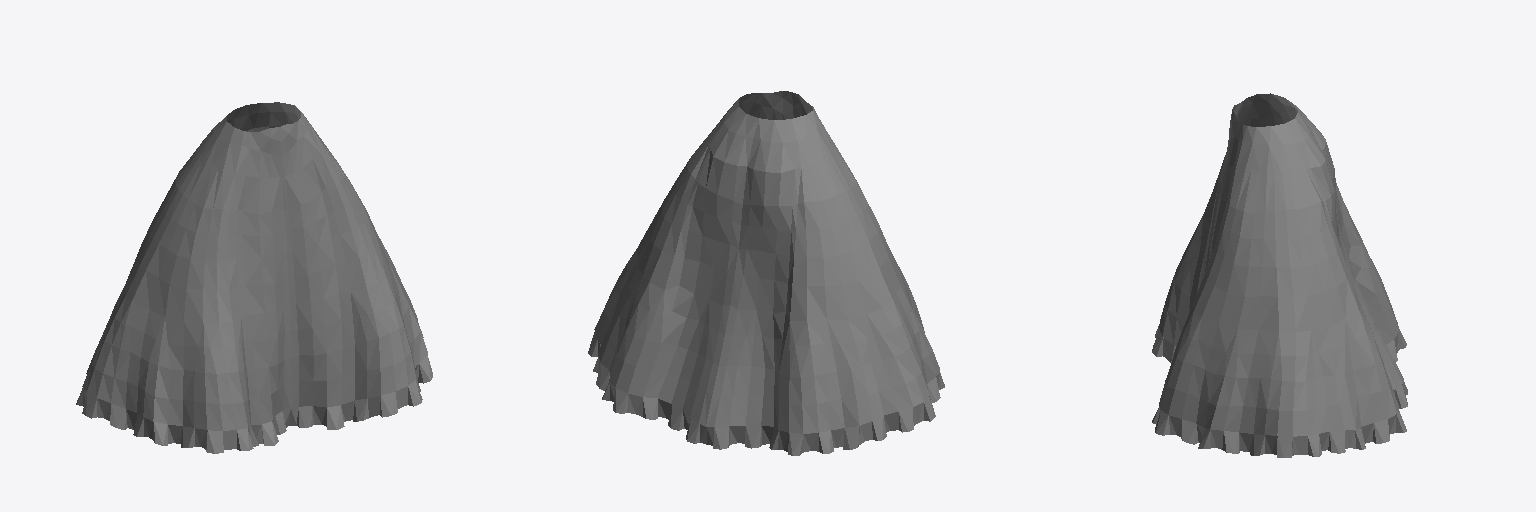
File: dress.obj
3 renders of one model, left to right at view 1: azimuth 30°, elevation 25°; view 2: azimuth 150°, elevation 25°; view 3: azimuth 270°, elevation 25°, orthographic.
Size of the model in its own units: 0.8268 by 0.6896 by 0.5462.